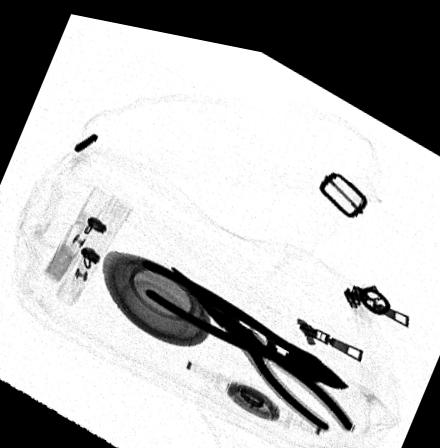Pliers: (162, 257, 354, 420), (137, 250, 354, 377)
